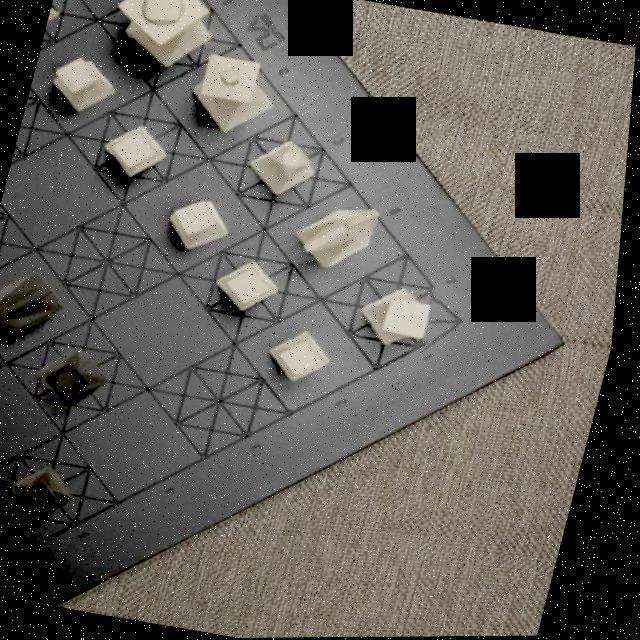chess-table-corners: (422, 282, 498, 361)
